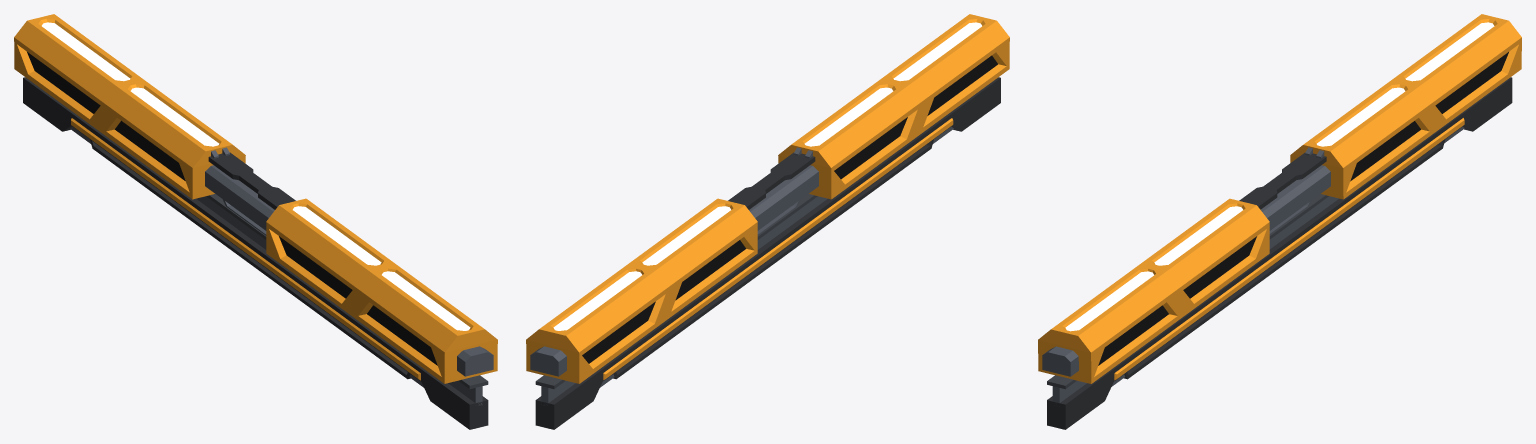
Rendered from SM_Straight_section_of_the_conveyor.glb.
The picture shows the model from 3 angles, left to right: view 1: azimuth 30°, elevation 25°; view 2: azimuth 150°, elevation 25°; view 3: azimuth 330°, elevation 25°; orthographic projection.
Parts seen in each view (by area): view 1: SM_Straight_section_of_the_conveyor; view 2: SM_Straight_section_of_the_conveyor; view 3: SM_Straight_section_of_the_conveyor.
Part boxes in pixels (bbox=[...]): SM_Straight_section_of_the_conveyor: bbox=[14, 14, 497, 429]; SM_Straight_section_of_the_conveyor: bbox=[526, 14, 1009, 429]; SM_Straight_section_of_the_conveyor: bbox=[1038, 14, 1521, 429].
Bounding box in the file's own units: 0.1371 × 0.2203 × 2.
2 materials, 1 textured.
